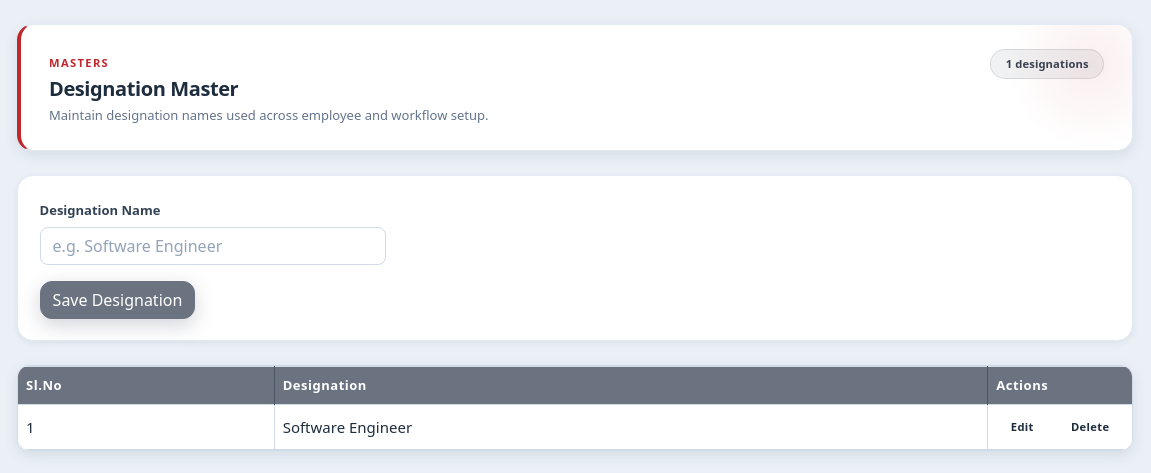
Test: edit mode › clicking Edit prefills the form with the designation name
The width and height of the screenshot is (1151, 473).
Expected: the text "Software Engineer" is shown, [274,405,988,450]
Click the button "Edit" at coordinates (1022, 427), box [996,413,1048,442]
(page scrolled)
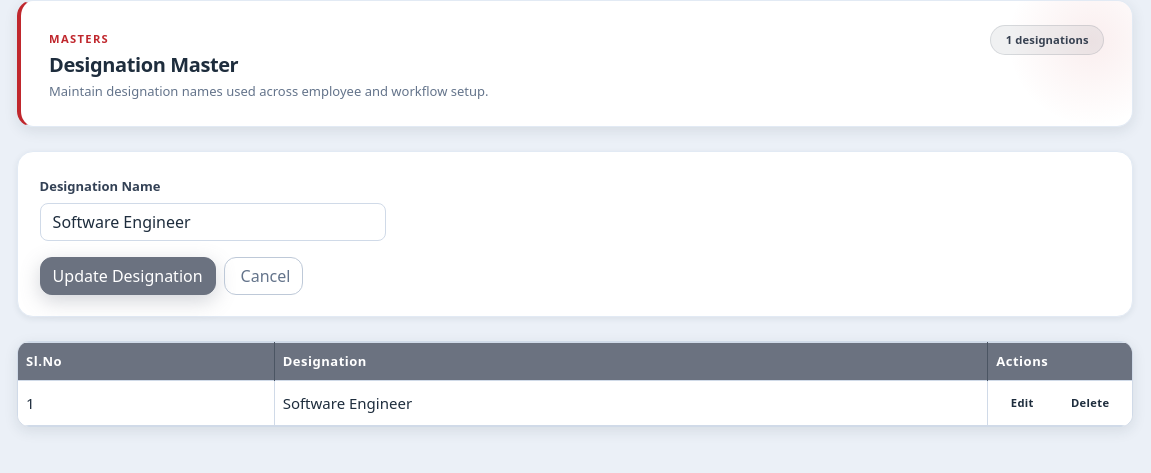
Now the field with placeholder "e.g. Software Engineer" holds "Software Engineer", box [40,203,386,241]
